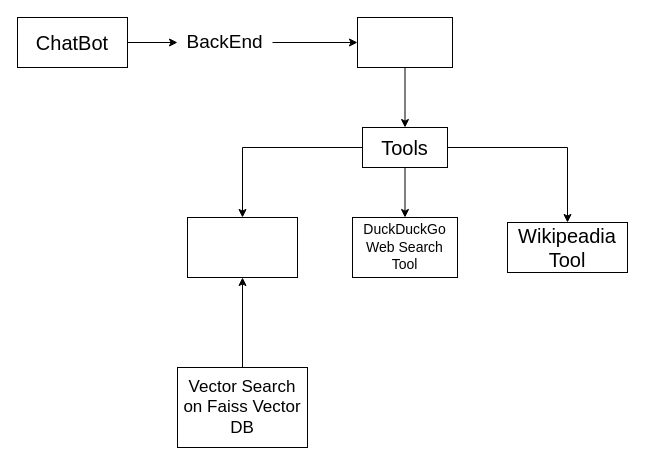
The diagram is 645 pixels wide and 465 high, and some of its shapes have lost their labels. The box of each missing label's shape, as (x1, y1, x2, y2) in pixels:
Agent: (356, 16, 452, 68)
Retriever Tool: (186, 216, 298, 278)
